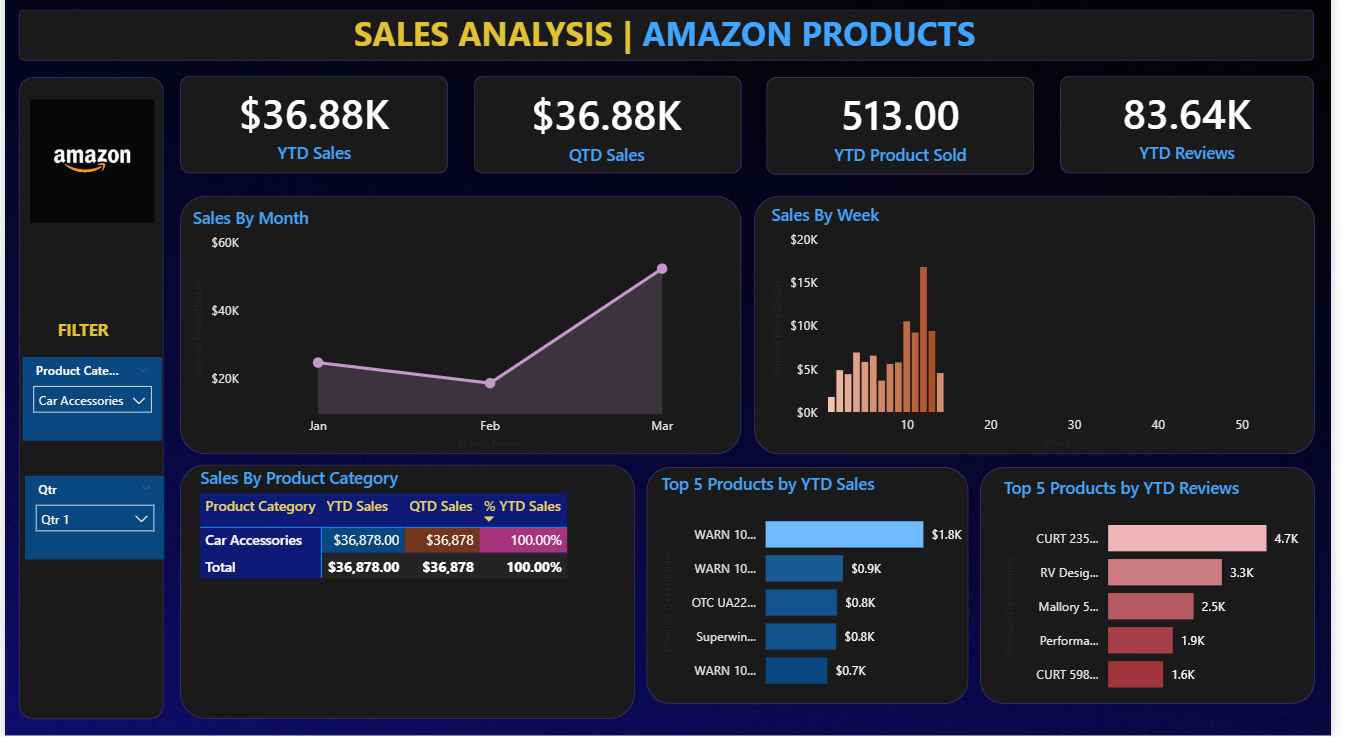

This screenshot's page, from the dashboard's own definition file:
{"tool":"powerbi","page":{"name":"Page 1","canvas":[1280,720],"ordinal":0},"visuals":[{"type":"shape","box":[451.8,81,259.3,94.7],"z":0,"group":"g1"},{"type":"shape","box":[13.7,82.3,140,620.2],"z":0},{"type":"shape","box":[13.7,16.5,1250.1,49.4],"z":1000},{"type":"textbox","box":[332.1,13.7,627.1,52.1],"z":2000},{"type":"shape","box":[168.8,196.2,542,249.7],"z":3000},{"type":"shape","box":[168.8,81,259.3,94.7],"z":4000,"group":"g1"},{"type":"areaChart","title":"Sales By Month","fields":{"Category":["Date Table.Month Name"],"Y":["Sum(Amazon_Data.Price(Dollar))"]},"box":[175.6,205.8,529.7,240.1],"z":4000},{"type":"card","fields":{"Values":["Amazon_Data.YTD Sales"]},"box":[168.8,79.6,259.3,94.7],"z":5000,"group":"g1"},{"type":"shape","box":[723.2,196.2,542,249.7],"z":5000},{"type":"card","fields":{"Values":["Amazon_Data.QTD Sales"]},"box":[451.5,81,259.3,94.7],"z":6000,"group":"g1"},{"type":"columnChart","title":"Sales By Week","fields":{"Category":["Date Table.Week"],"Y":["Sum(Amazon_Data.Price(Dollar))"]},"box":[734.1,204.5,511.8,241.5],"z":6000},{"type":"shape","box":[734.8,82.3,259.3,94.7],"z":7000,"group":"g1"},{"type":"shape","box":[168.8,455.6,439.1,245.6],"z":7000},{"type":"shape","box":[1018.2,81,245.6,94.7],"z":8000,"group":"g1"},{"type":"pivotTable","title":"Sales By Product Category","fields":{"Rows":["Amazon_Data.Product Category"],"Values":["Amazon_Data.YTD Sales1","Amazon_Data.QTD Sales","Amazon_Data.YTD Sales"]},"box":[183.9,456.9,444.6,244.3],"z":8000},{"type":"card","fields":{"Values":["Amazon_Data.YTD Product Sold"]},"box":[734.2,81,259.3,94.7],"z":8001,"group":"g1"},{"type":"card","fields":{"Values":["Amazon_Data.YTD Reviews"]},"box":[1018.2,79.6,245.6,94.7],"z":8002,"group":"g1"},{"type":"group","id":"g1","title":"Group 1","box":[168.8,79.6,1095,97.4],"z":9000},{"type":"shape","box":[618.9,458.3,311.5,229.2],"z":10000},{"type":"shape","box":[941.3,458.3,323.8,229.2],"z":11000},{"type":"barChart","title":"Top 5 Products by YTD Sales","fields":{"Category":["Amazon_Data.Product Description"],"Y":["Amazon_Data.YTD Sales"]},"box":[628.5,463.8,301.9,223.7],"z":12000},{"type":"barChart","title":"Top 5 Products by YTD Reviews","fields":{"Y":["Amazon_Data.YTD Reviews"],"Category":["Amazon_Data.Product Description"]},"box":[959.2,466.6,301.9,223.7],"z":13000},{"type":"slicer","fields":{"Values":["Amazon_Data.Product Category"]},"box":[16.5,352.7,134.5,81],"z":14000},{"type":"slicer","fields":{"Values":["Date Table.Qtr"]},"box":[19.2,466.6,134.5,81],"z":14001},{"type":"image","box":[16.5,97.4,134.5,130.4],"z":14002},{"type":"textbox","box":[45.3,310.1,75.5,32.9],"z":14003}]}

Visuals, with their boxes in screenshot pixels (x1, y1, x2, y2), scaled from the page's 1280x720 canvas onto the 1348x737 screenshot:
shape: select_region(476, 83, 749, 180)
shape: select_region(14, 84, 162, 719)
shape: select_region(14, 17, 1331, 67)
textbox: select_region(350, 14, 1010, 67)
shape: select_region(178, 201, 749, 456)
shape: select_region(178, 83, 451, 180)
"Sales By Month" areaChart: select_region(185, 211, 743, 456)
card - Amazon_Data.YTD Sales: select_region(178, 81, 451, 178)
shape: select_region(762, 201, 1332, 456)
card - Amazon_Data.QTD Sales: select_region(475, 83, 749, 180)
"Sales By Week" columnChart: select_region(773, 209, 1312, 457)
shape: select_region(774, 84, 1047, 181)
shape: select_region(178, 466, 640, 718)
shape: select_region(1072, 83, 1331, 180)
"Sales By Product Category" pivotTable: select_region(194, 468, 662, 718)
card - Amazon_Data.YTD Product Sold: select_region(773, 83, 1046, 180)
card - Amazon_Data.YTD Reviews: select_region(1072, 81, 1331, 178)
"Group 1" group: select_region(178, 81, 1331, 181)
shape: select_region(652, 469, 980, 704)
shape: select_region(991, 469, 1332, 704)
"Top 5 Products by YTD Sales" barChart: select_region(662, 475, 980, 704)
"Top 5 Products by YTD Reviews" barChart: select_region(1010, 478, 1328, 707)
slicer - Amazon_Data.Product Category: select_region(17, 361, 159, 444)
slicer - Date Table.Qtr: select_region(20, 478, 162, 561)
image: select_region(17, 100, 159, 233)
textbox: select_region(48, 317, 127, 351)
